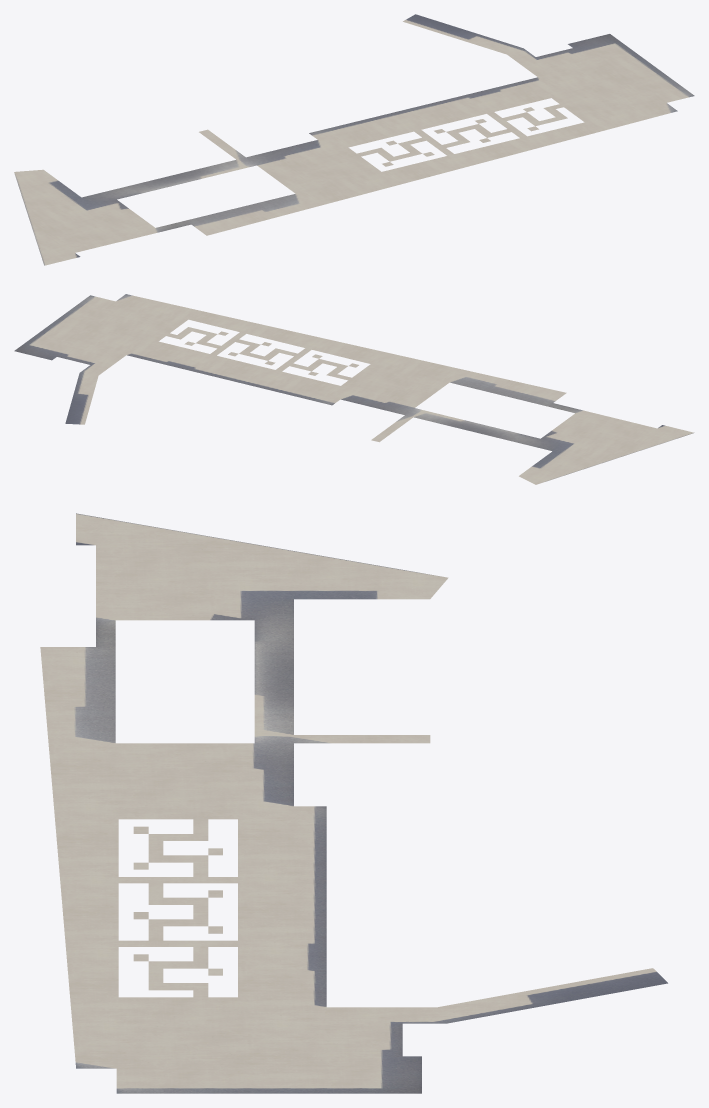
The model's file is Asfalto cucinato 2K carta.glb.
The picture shows the model from 3 angles, top to bottom: view 1: azimuth 30°, elevation 25°; view 2: azimuth 150°, elevation 25°; view 3: azimuth 270°, elevation 25°; orthographic projection. The views are drawn at different scales.
Visible parts, largest first — view 1: Obj_000001_1; view 2: Obj_000001_1; view 3: Obj_000001_1.
Part boxes in pixels (bbox=[...]): Obj_000001_1: bbox=[14, 14, 694, 265]; Obj_000001_1: bbox=[14, 294, 694, 484]; Obj_000001_1: bbox=[40, 513, 667, 1093].
Bounding box in the file's own units: 230 × 1.77e-05 × 105.
1 material, 1 textured.
